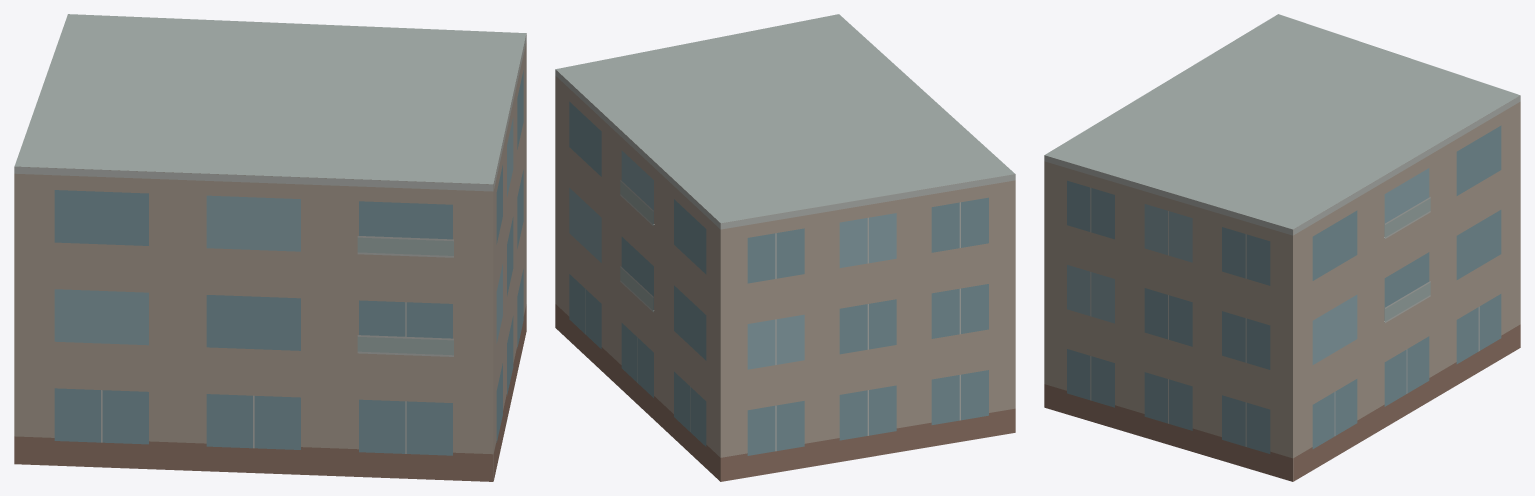
File: survey-upis-32602154.glb
3 renders of one model, left to right at view 1: azimuth 30°, elevation 25°; view 2: azimuth 150°, elevation 25°; view 3: azimuth 270°, elevation 25°, orthographic. The views are drawn at different scales.
Visible parts, largest first — view 1: survey-upis-32602154.tmp; view 2: survey-upis-32602154.tmp; view 3: survey-upis-32602154.tmp.
Part boxes in pixels (x1=…): survey-upis-32602154.tmp: x1=14, y1=14, x2=526, y2=481; survey-upis-32602154.tmp: x1=555, y1=14, x2=1015, y2=481; survey-upis-32602154.tmp: x1=1044, y1=14, x2=1520, y2=481.
Size of the model in its own units: 18.42 by 10.05 by 17.2.
